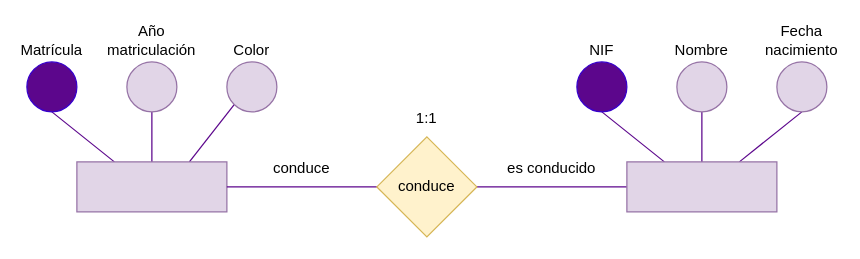
The diagram is 860 pixels wide and 259 high, and some of its shapes have lost their labels. Each missing label, with the centre of its shape:
Coche: (x=151, y=186)
Conductor: (x=701, y=186)
